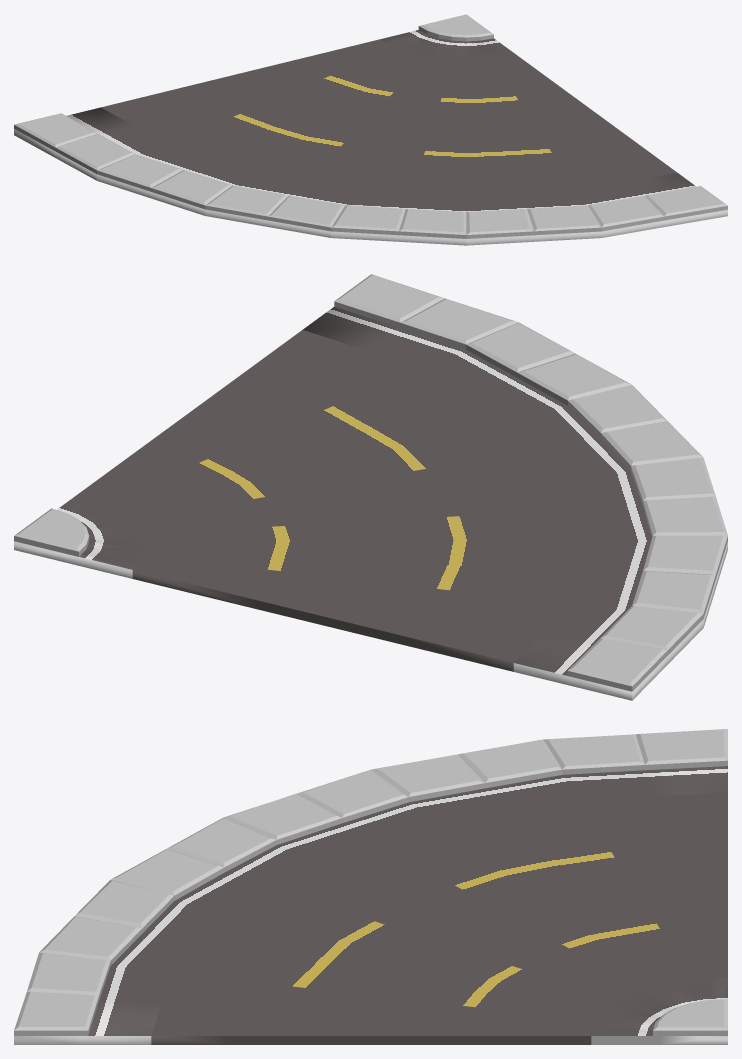
Rendered from road_corner_edit.obj.
3 views of the same model, one above another, from view 1: azimuth 30°, elevation 25°; view 2: azimuth 150°, elevation 25°; view 3: azimuth 270°, elevation 25° (orthographic). The views are drawn at different scales.
Parts seen in each view (by area): view 1: base_street, inner_outer_border, inner_outer_border.001; view 2: base_street, inner_outer_border, inner_outer_border.001; view 3: base_street, inner_outer_border, inner_outer_border.001.
Boxes of the visible parts, x1=… form: base_street: x1=14, y1=30, x2=727, y2=245; inner_outer_border: x1=331, y1=14, x2=727, y2=238; inner_outer_border.001: x1=14, y1=113, x2=345, y2=231; base_street: x1=14, y1=306, x2=727, y2=700; inner_outer_border: x1=14, y1=274, x2=703, y2=556; inner_outer_border.001: x1=567, y1=457, x2=727, y2=691; base_street: x1=14, y1=766, x2=727, y2=1044; inner_outer_border: x1=14, y1=817, x2=727, y2=1035; inner_outer_border.001: x1=224, y1=729, x2=727, y2=844.
Bounding box in the file's own units: 18.2 × 0.4531 × 18.22.
